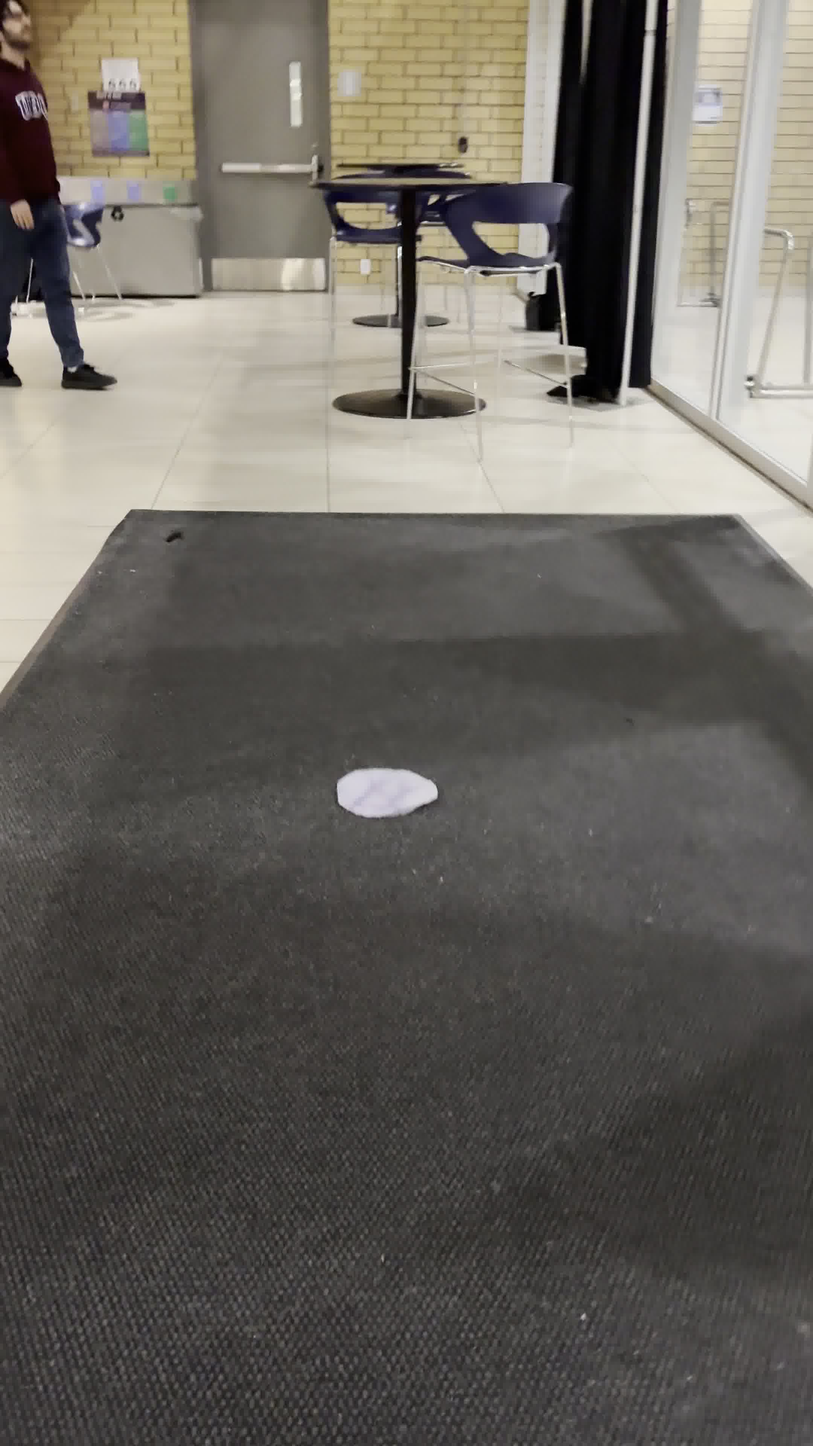Target: (330, 762, 444, 820)
